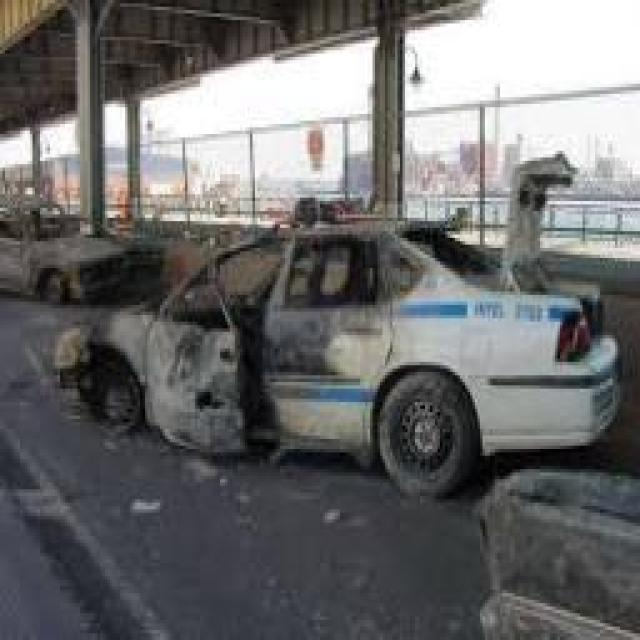Door: (275, 251, 370, 449), (182, 258, 275, 439)
Fender: (38, 315, 150, 389)
